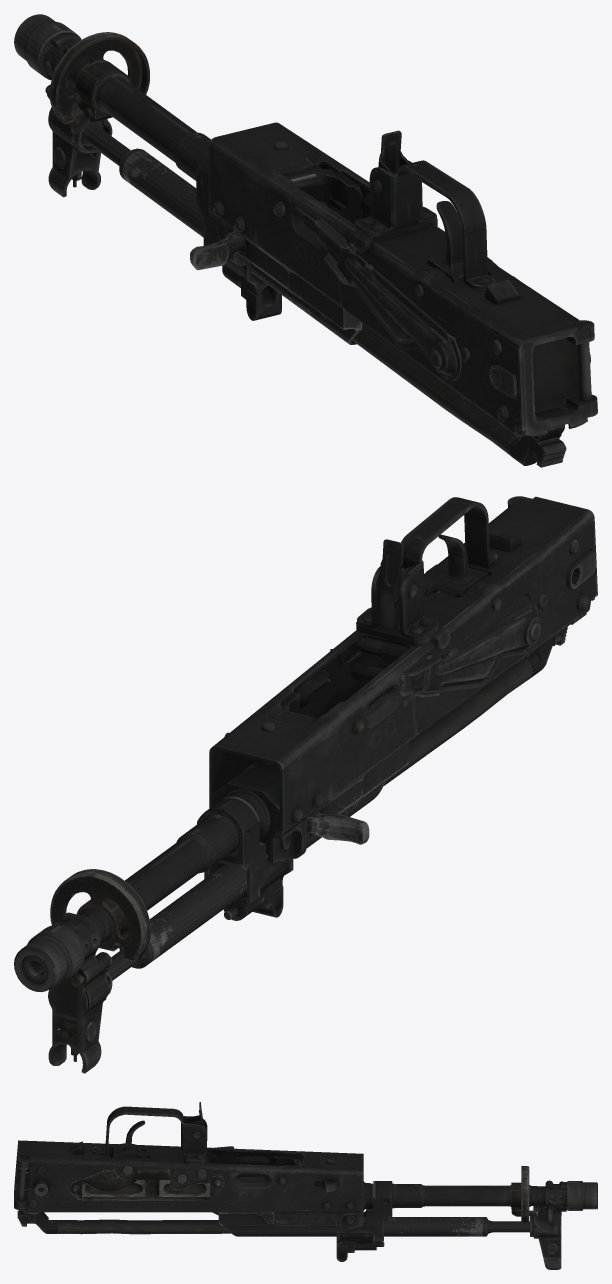
3 views of the same model, one above another, from view 1: azimuth 30°, elevation 25°; view 2: azimuth 150°, elevation 25°; view 3: azimuth 270°, elevation 25° (orthographic). The views are drawn at different scales.
Visible parts, largest first — view 1: TW_583990e32459771419544dd2_PZ_Import; view 2: TW_583990e32459771419544dd2_PZ_Import; view 3: TW_583990e32459771419544dd2_PZ_Import.
Part boxes in pixels (left/top/right/bottom): TW_583990e32459771419544dd2_PZ_Import: left=14, top=14, right=597, bottom=467; TW_583990e32459771419544dd2_PZ_Import: left=14, top=496, right=597, bottom=1073; TW_583990e32459771419544dd2_PZ_Import: left=14, top=1102, right=597, bottom=1269.
Size of the model in its own units: 0.0384 by 0.2477 by 0.0758.
Materials: 1 (1 with a texture image).
